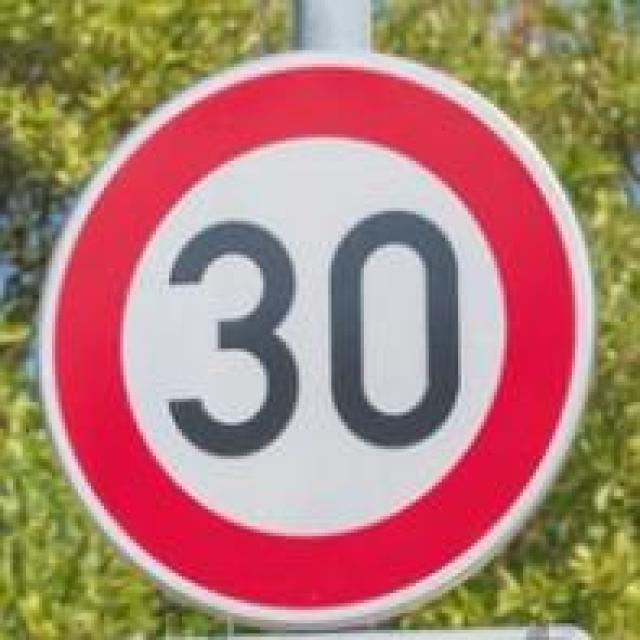speed_limit_30: (39, 44, 598, 623)
